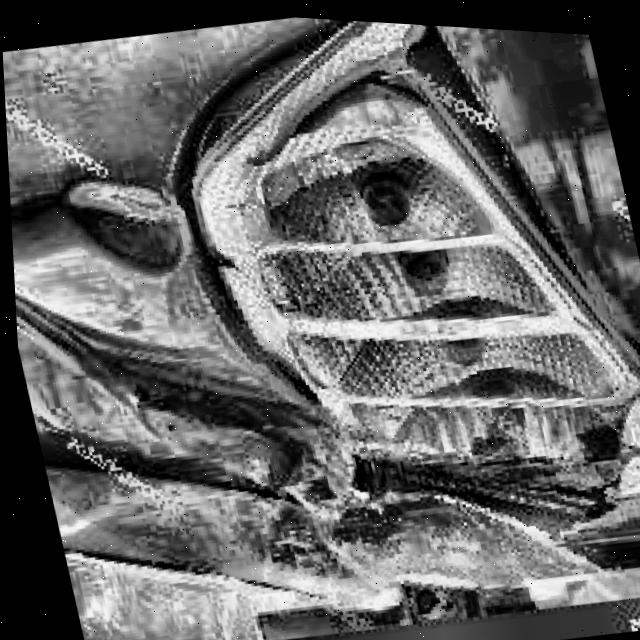tail_lamp: (248, 23, 538, 513), (495, 320, 640, 535)
